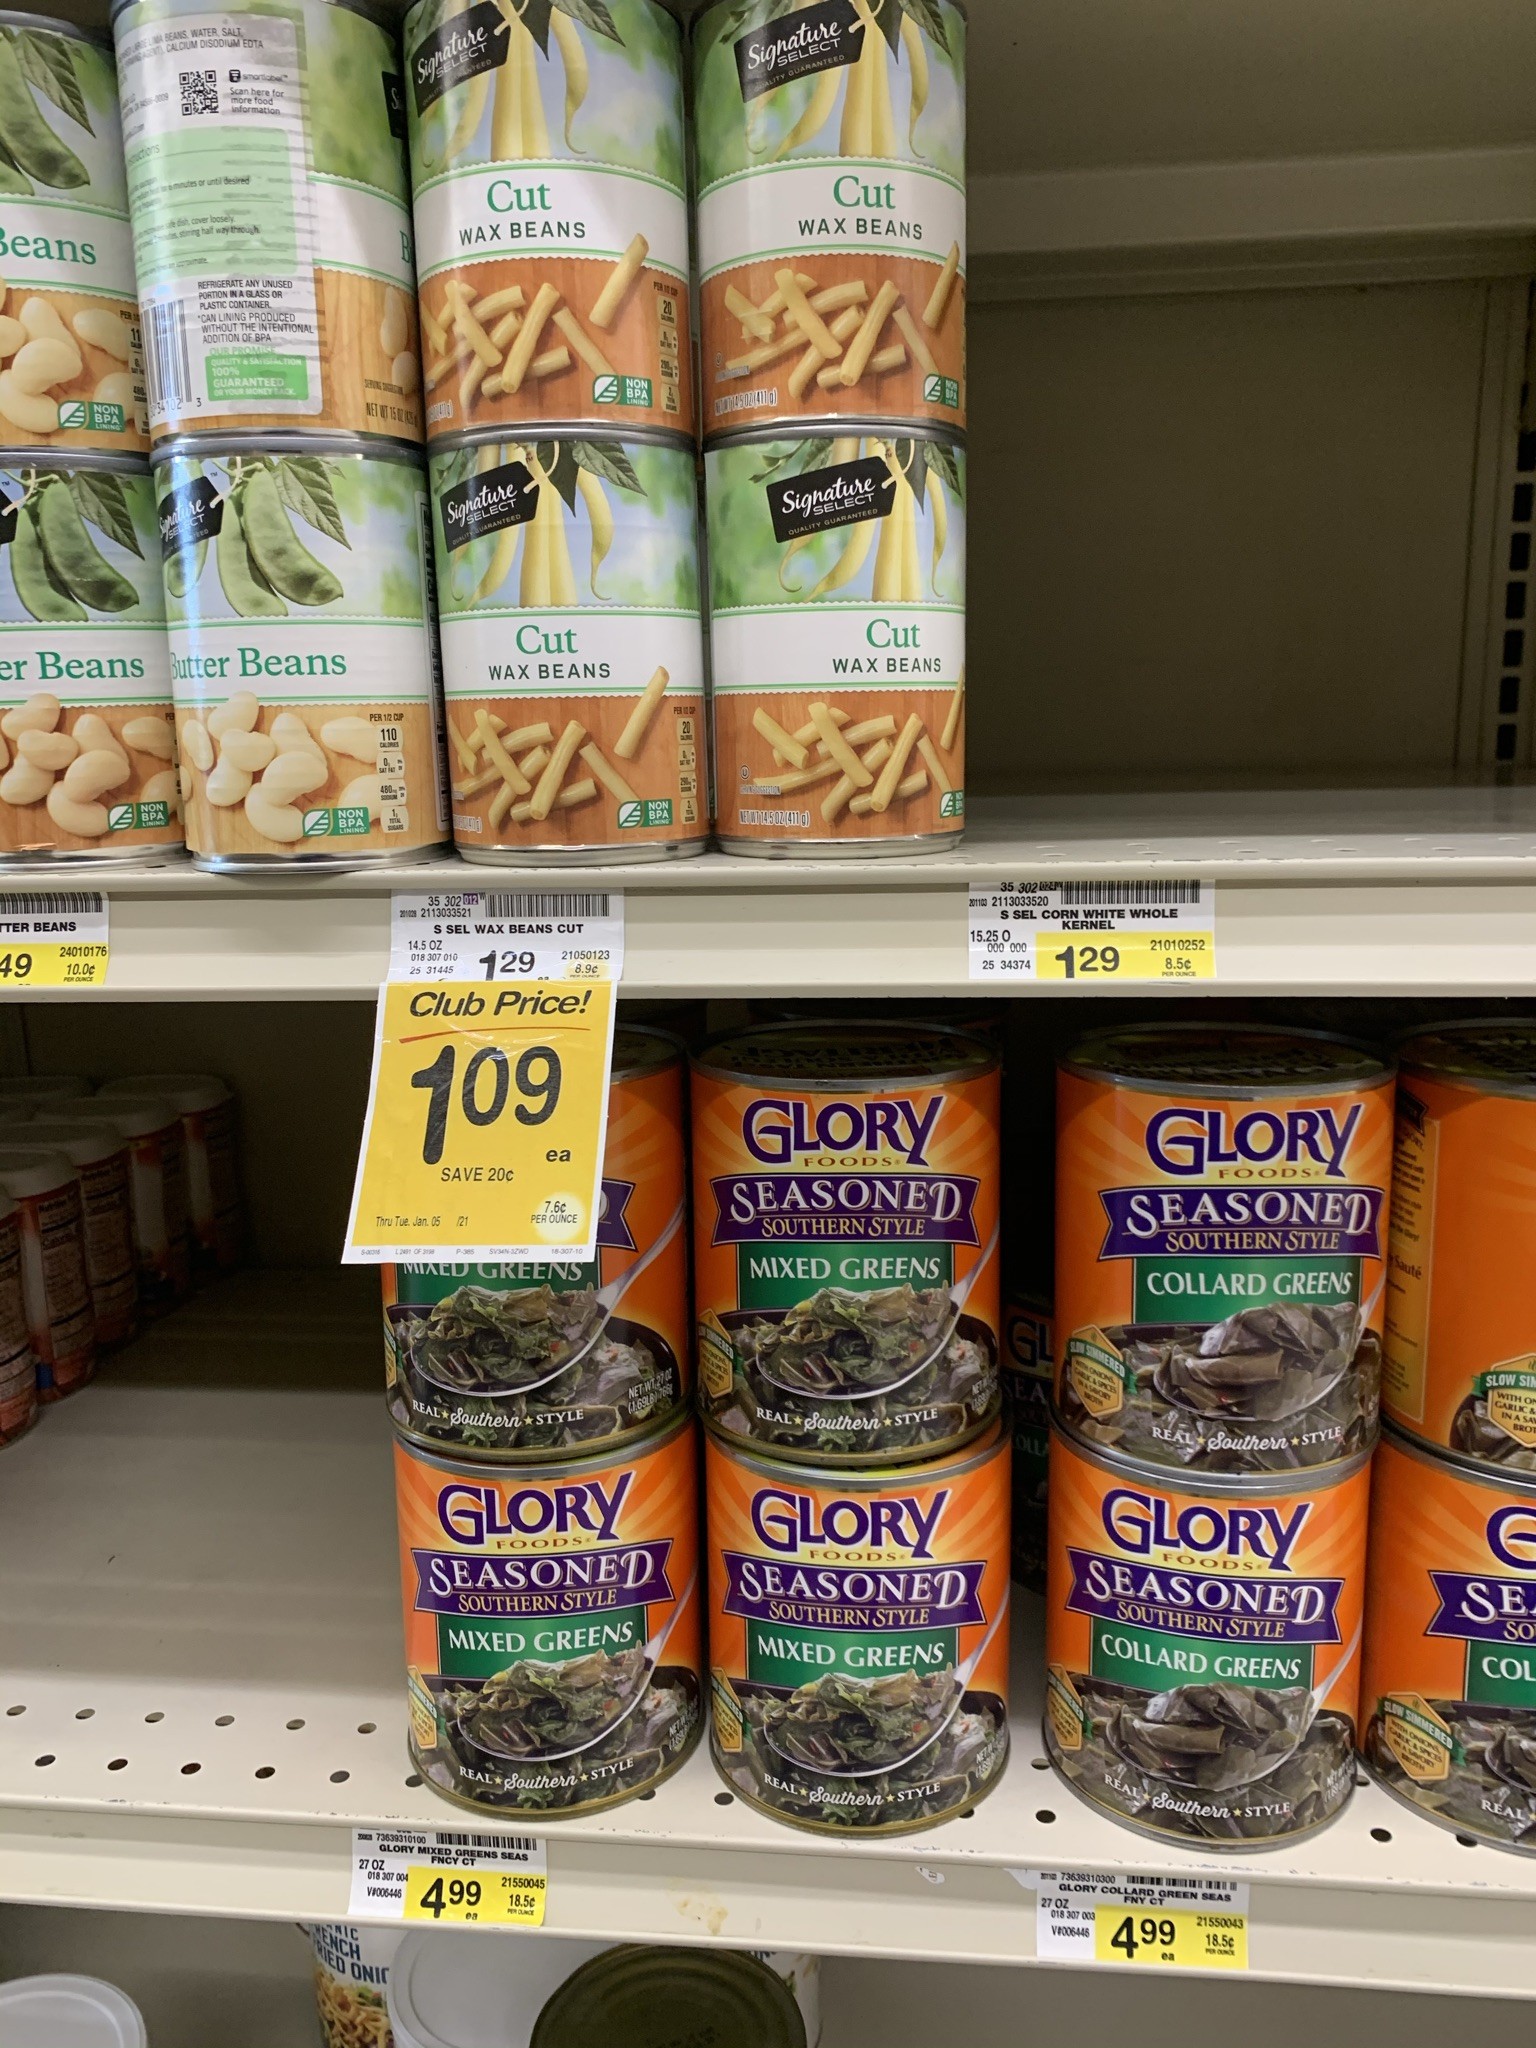can: (103, 2, 419, 443), (1058, 1068, 1389, 1476), (397, 3, 691, 434), (426, 439, 708, 869), (695, 1072, 1004, 1464), (1046, 1471, 1362, 1851), (153, 443, 431, 871), (694, 3, 971, 424), (703, 1459, 1012, 1838), (700, 431, 970, 863), (387, 1455, 700, 1821), (2, 458, 189, 869)
